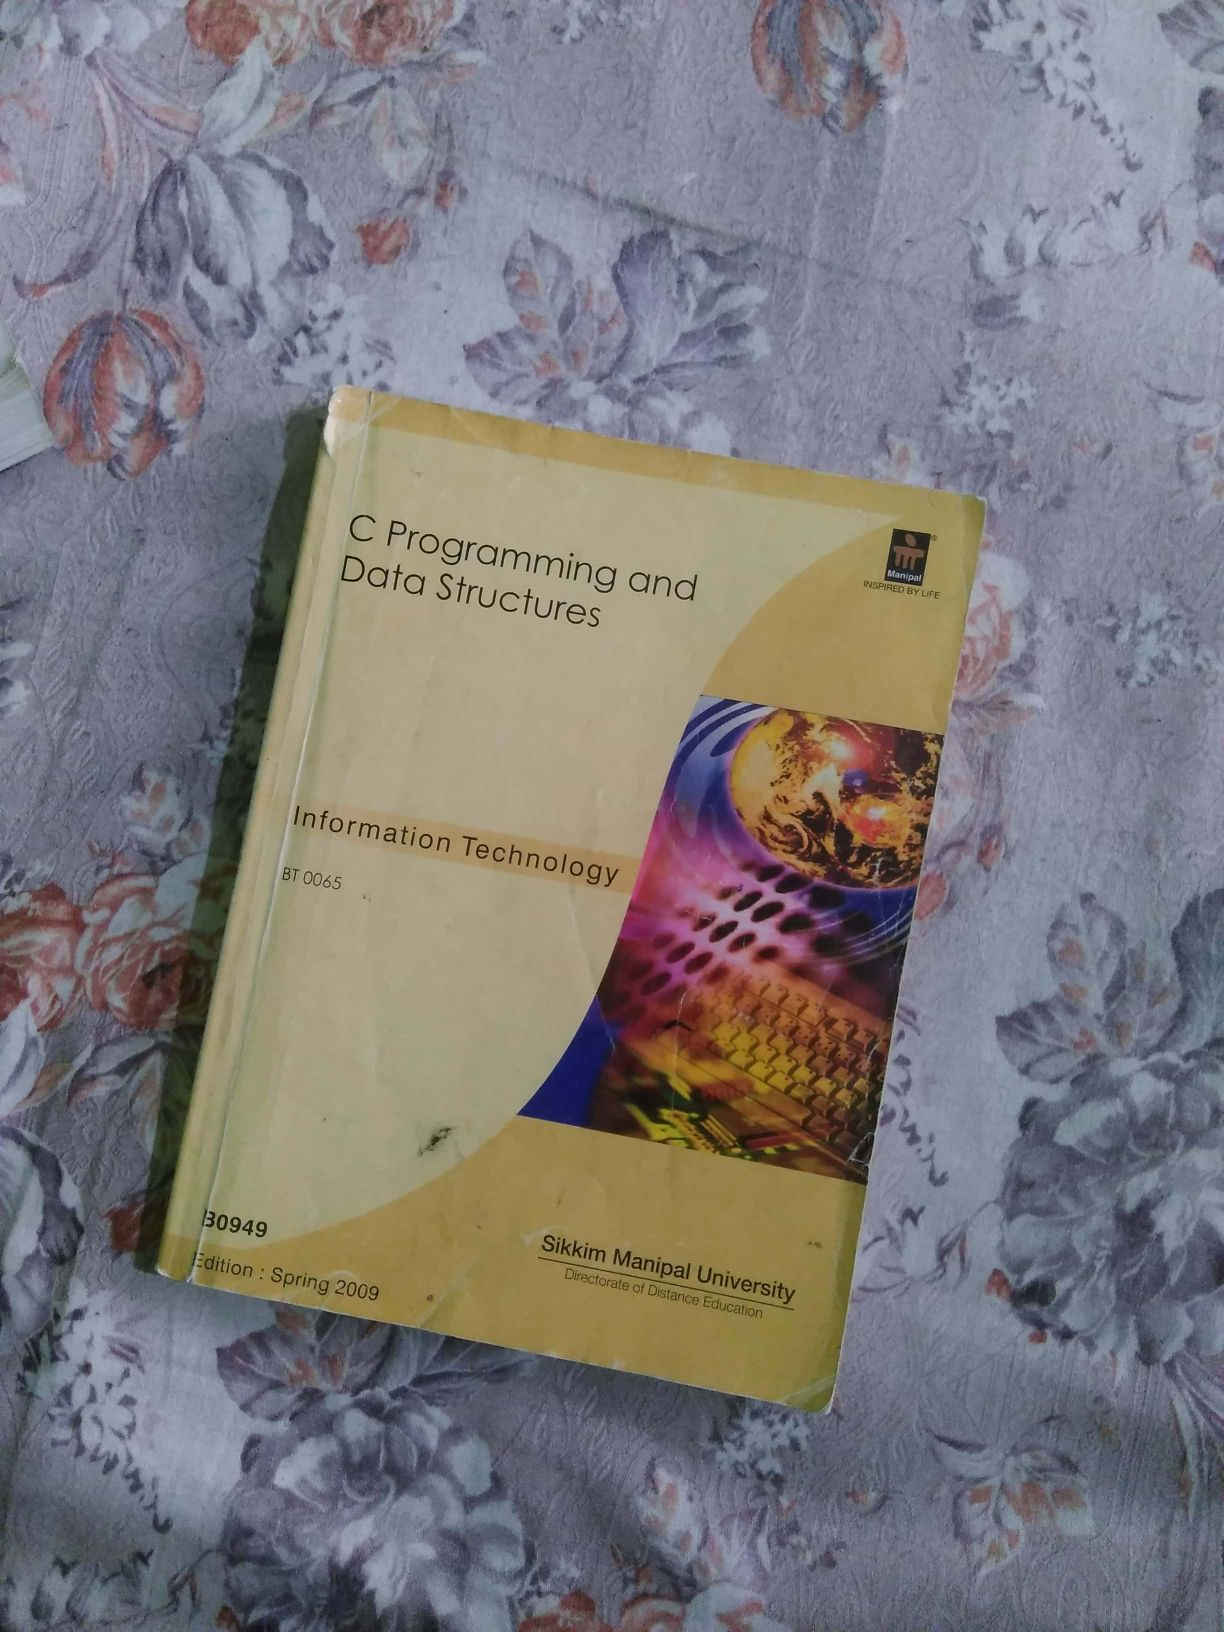clang: (168, 397, 933, 1444)
